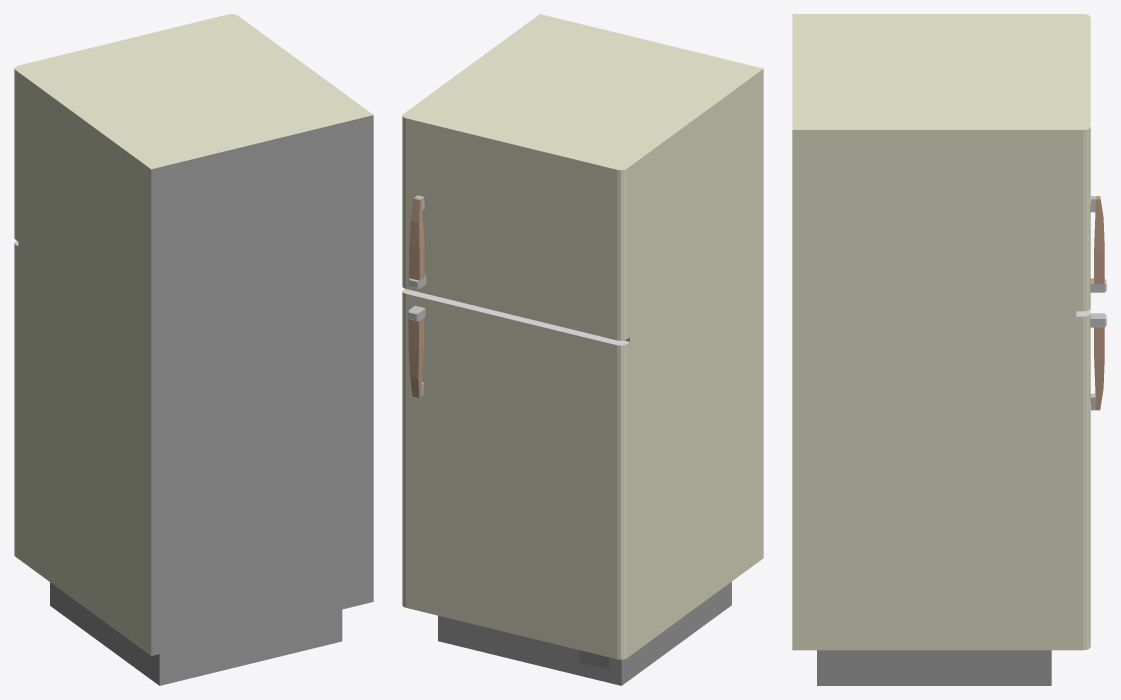
The model's file is Fridge.fbx.
3 renders of one model, left to right at view 1: azimuth 30°, elevation 25°; view 2: azimuth 150°, elevation 25°; view 3: azimuth 270°, elevation 25°, orthographic. The views are drawn at different scales.
Parts seen in each view (by area): view 1: Fridge, Freezer Door, Fridge Door; view 2: Fridge, Fridge Door, Freezer Door; view 3: Fridge, Fridge Door, Freezer Door.
Boxes of the visible parts, x1,y1,x2,y2 form: Fridge: (18, 18, 373, 685); Freezer Door: (14, 14, 240, 241); Fridge Door: (14, 240, 18, 558); Fridge: (406, 14, 763, 685); Fridge Door: (402, 288, 629, 659); Freezer Door: (402, 112, 629, 340); Fridge: (792, 14, 1076, 685); Fridge Door: (1076, 309, 1106, 650); Freezer Door: (1076, 14, 1106, 311).
Size of the model in its own units: 0.7366 by 1.68 by 0.8427.
